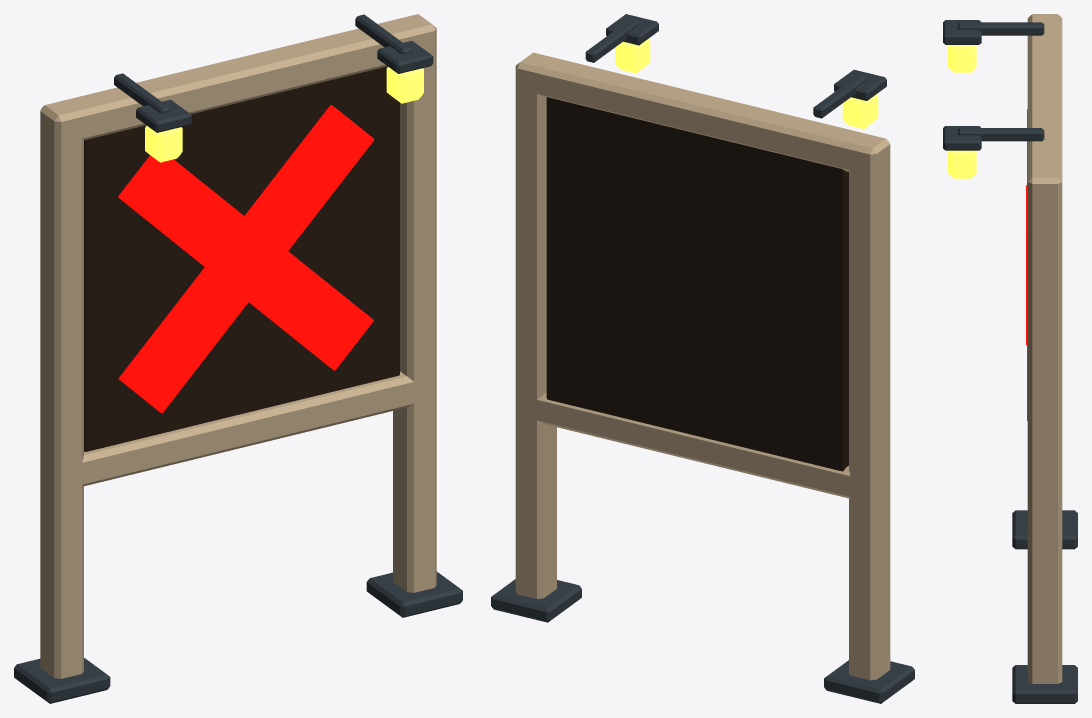
Rendered from MD_Sign_ForkX.fbx.
3 renders of one model, left to right at view 1: azimuth 30°, elevation 25°; view 2: azimuth 150°, elevation 25°; view 3: azimuth 270°, elevation 25°, orthographic. The views are drawn at different scales.
Parts seen in each view (by area): view 1: MD_Sign_ForkX; view 2: MD_Sign_ForkX; view 3: MD_Sign_ForkX.
Part boxes in pixels (box(x1,y1,x2,y2)): MD_Sign_ForkX: box(14, 14, 462, 703); MD_Sign_ForkX: box(491, 14, 914, 703); MD_Sign_ForkX: box(943, 14, 1077, 703).
Bounding box in the file's own units: 224 × 308 × 70.
